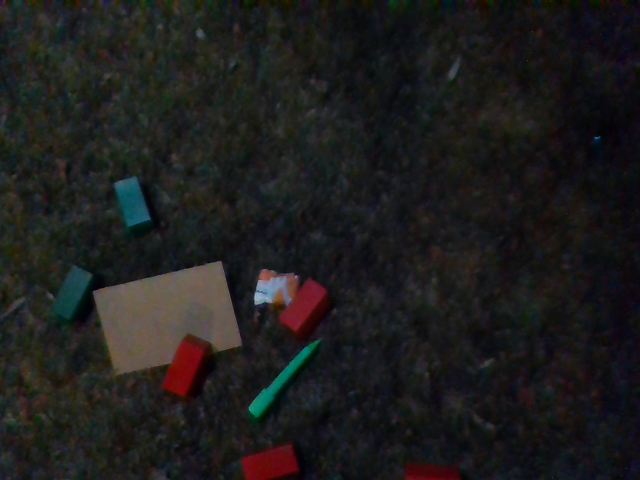Probe: (245, 335, 321, 420)
